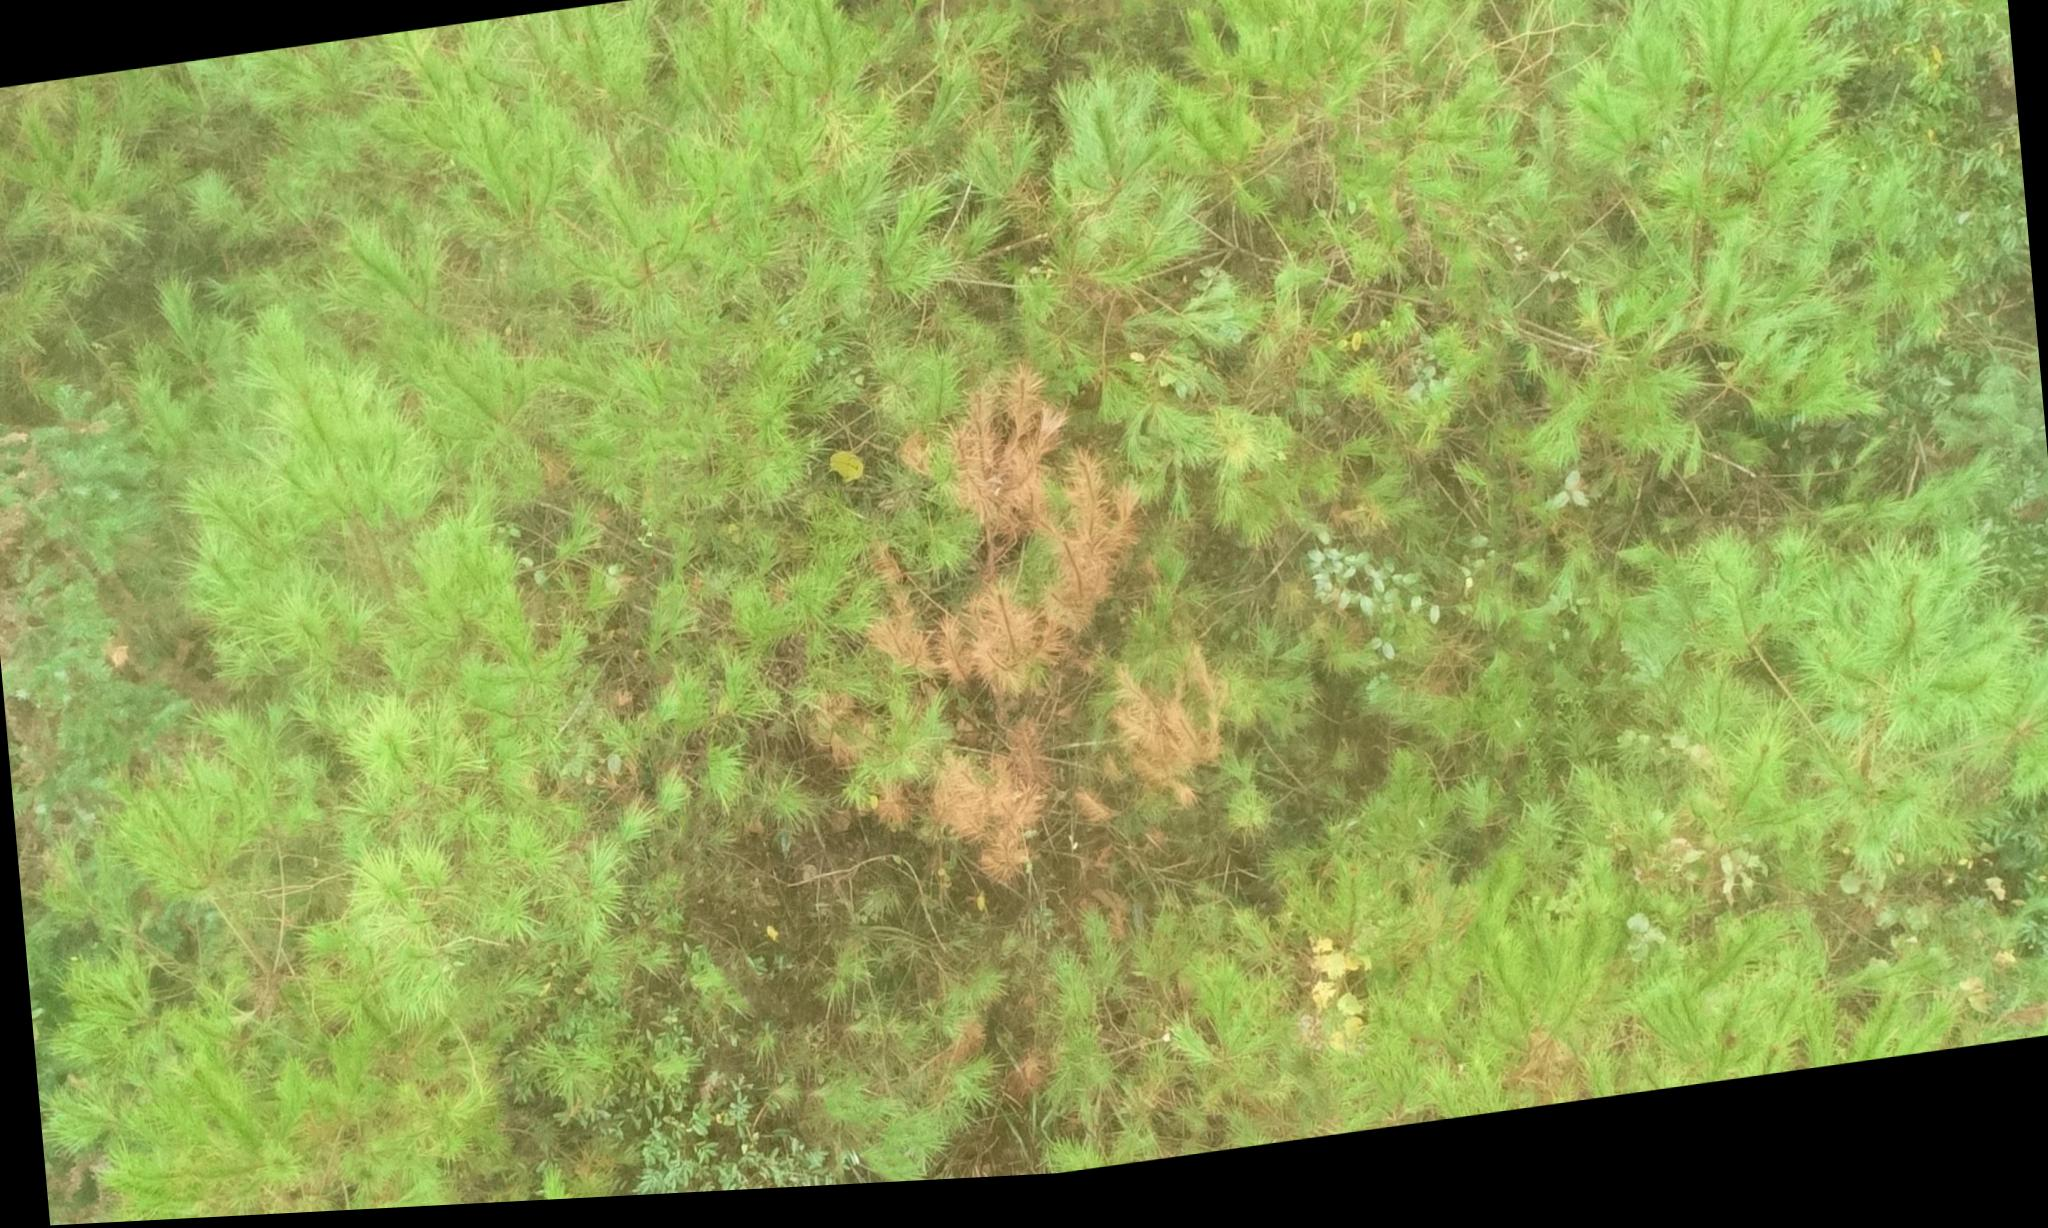heavy: (845, 361, 1224, 912)
